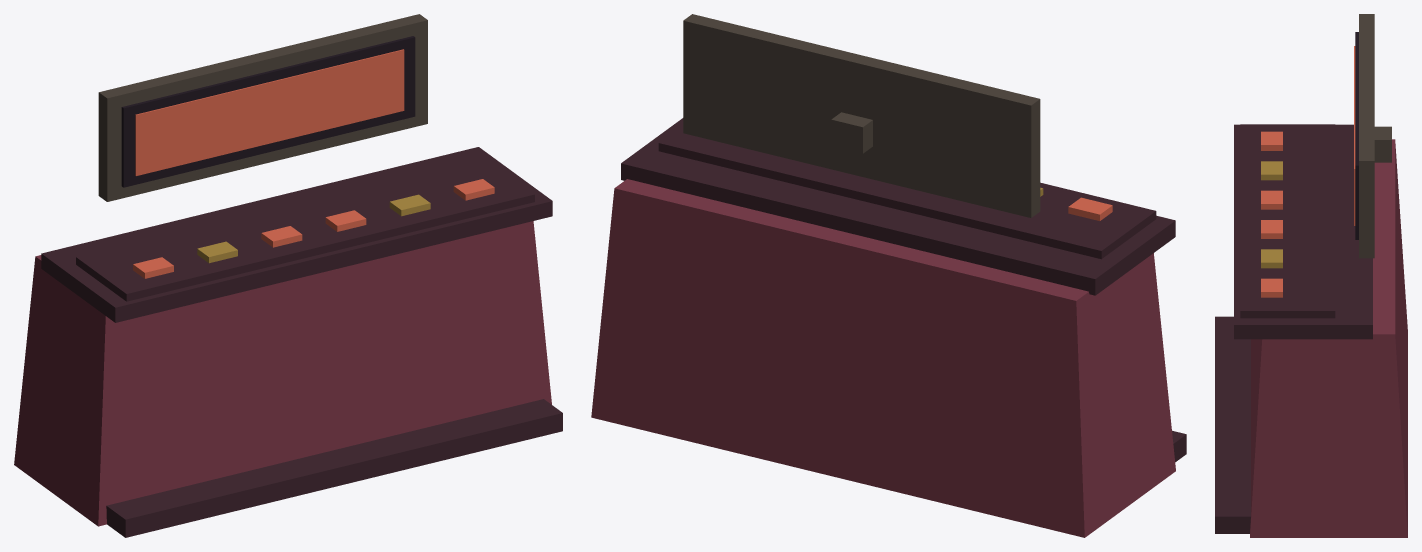
Rendered from criminal_console.glb.
3 views of the same model, side by side, from view 1: azimuth 30°, elevation 25°; view 2: azimuth 150°, elevation 25°; view 3: azimuth 270°, elevation 25° (orthographic). The views are drawn at different scales.
Visible parts, largest first — view 1: criminal_console; view 2: criminal_console; view 3: criminal_console.
Part boxes in pixels (x1,y1,x2,y2): criminal_console: (14,14,562,537); criminal_console: (591,14,1186,537); criminal_console: (1215,14,1407,537).
Size of the model in its own units: 1.56 by 1.21 by 0.61.
